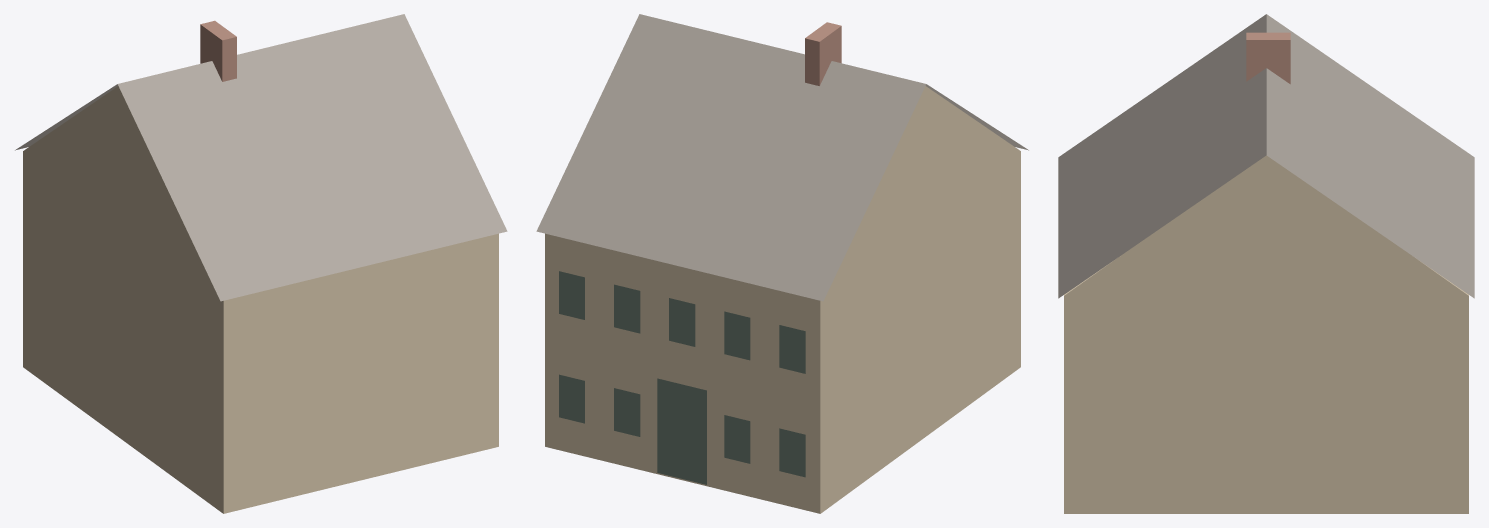
Rendered from recon_1835_south_d7_035__recommended_1835.glb.
3 renders of one model, left to right at view 1: azimuth 30°, elevation 25°; view 2: azimuth 150°, elevation 25°; view 3: azimuth 270°, elevation 25°, orthographic.
Visible parts, largest first — view 1: recon_1835_south_d7_035__recommended_1835; view 2: recon_1835_south_d7_035__recommended_1835; view 3: recon_1835_south_d7_035__recommended_1835.
Part boxes in pixels (x1,y1,x2,y2): recon_1835_south_d7_035__recommended_1835: (15, 14, 507, 513); recon_1835_south_d7_035__recommended_1835: (536, 14, 1028, 513); recon_1835_south_d7_035__recommended_1835: (1058, 14, 1474, 513).
Bounding box in the file's own units: 7.02 × 9.02 × 8.74.
